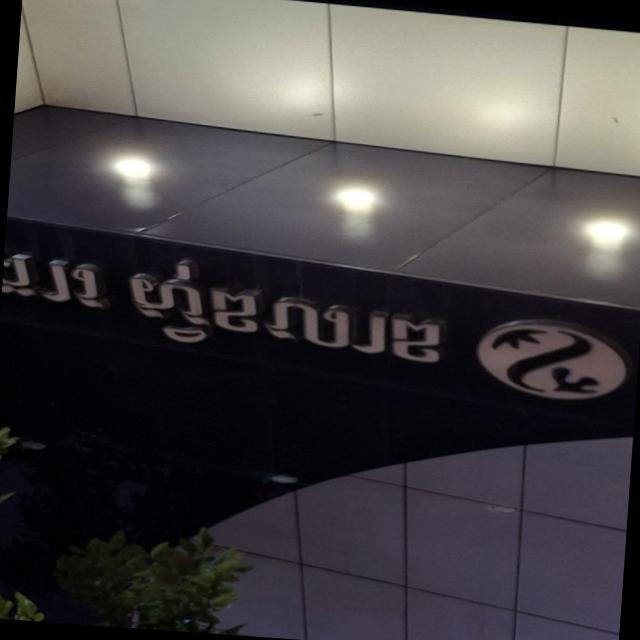Yolov11kh: (65, 245, 484, 400)
